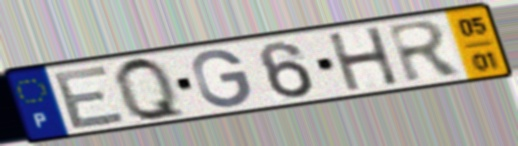6: (255, 39, 317, 100)
E: (51, 62, 130, 132)
G: (189, 47, 254, 110)
H: (323, 24, 403, 94)
Q: (111, 54, 191, 123)
R: (383, 18, 467, 86)
